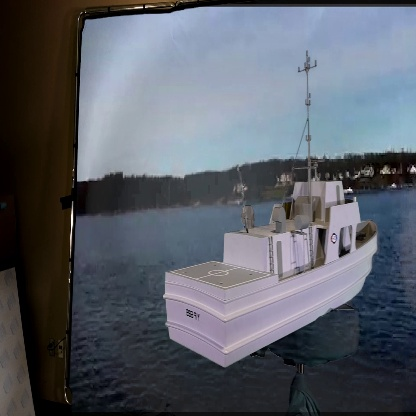YP689: (164, 49, 378, 369)
